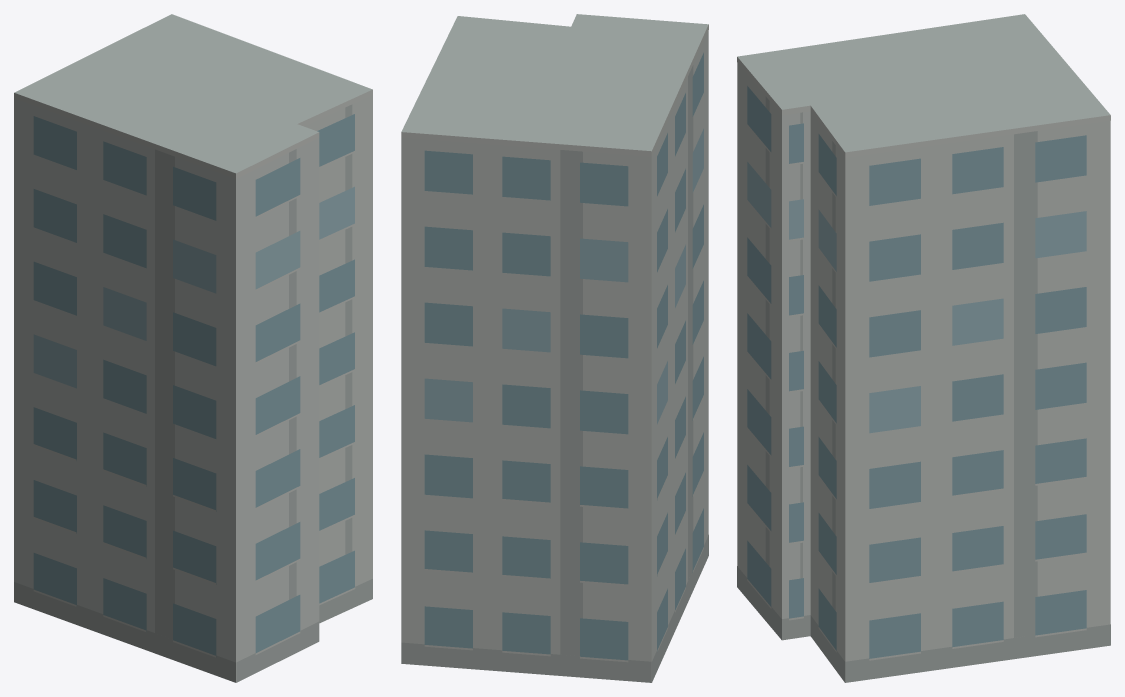
File: survey-upis-32567615.glb
The picture shows the model from 3 angles, left to right: view 1: azimuth 30°, elevation 25°; view 2: azimuth 150°, elevation 25°; view 3: azimuth 270°, elevation 25°; orthographic projection. The views are drawn at different scales.
Parts seen in each view (by area): view 1: survey-upis-32567615.tmp; view 2: survey-upis-32567615.tmp; view 3: survey-upis-32567615.tmp.
Boxes of the visible parts, x1,y1,x2,y2 form: survey-upis-32567615.tmp: [14, 14, 372, 682]; survey-upis-32567615.tmp: [401, 14, 708, 682]; survey-upis-32567615.tmp: [737, 14, 1110, 682].
Bounding box in the file's own units: 12.88 × 23 × 14.69.
